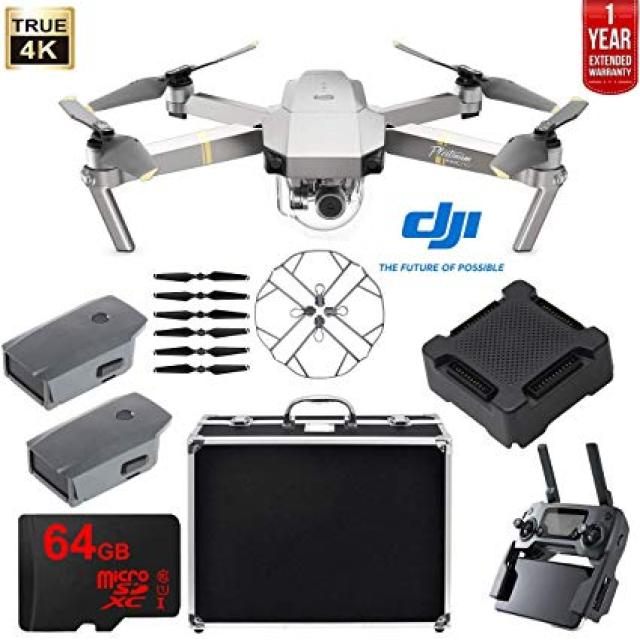drone: (44, 29, 598, 283)
